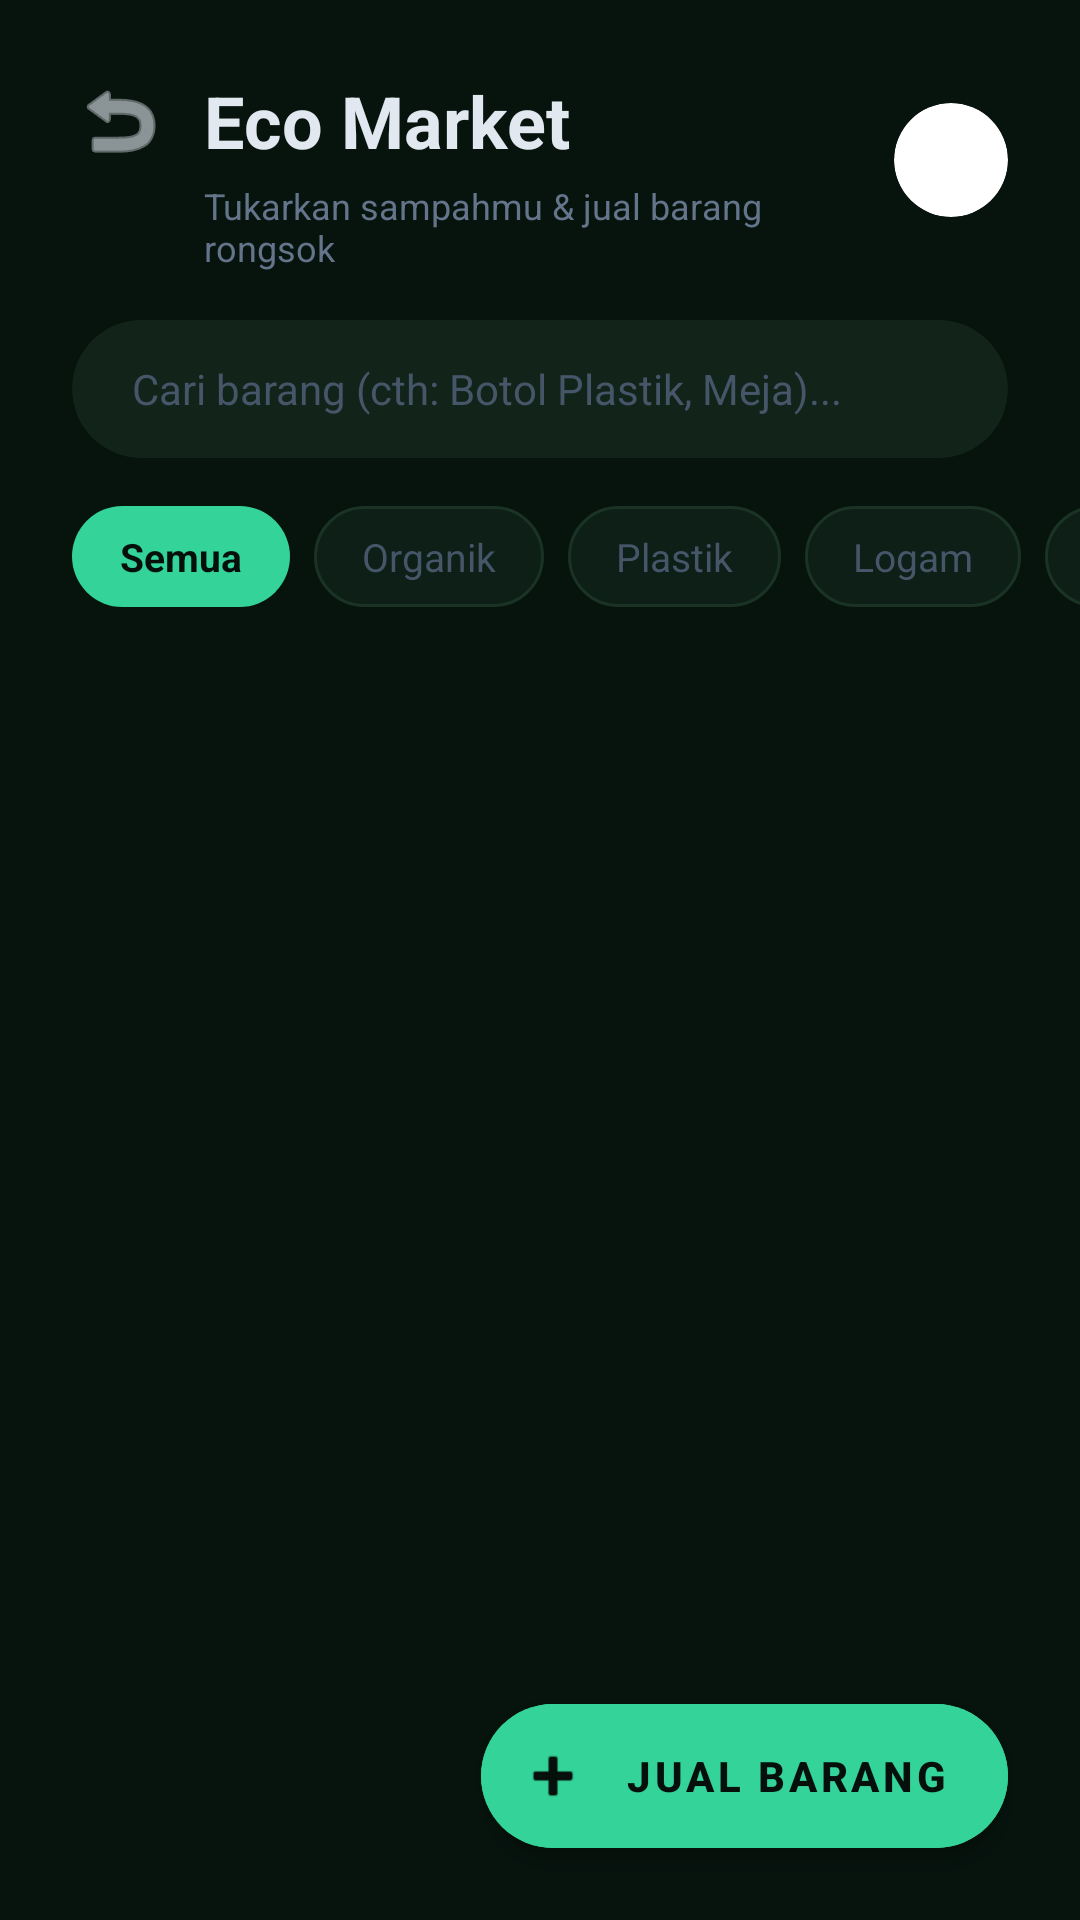

Where to tap for icons on this 1080x1920 app screen, as [x,y]:
revert: [121,121]
